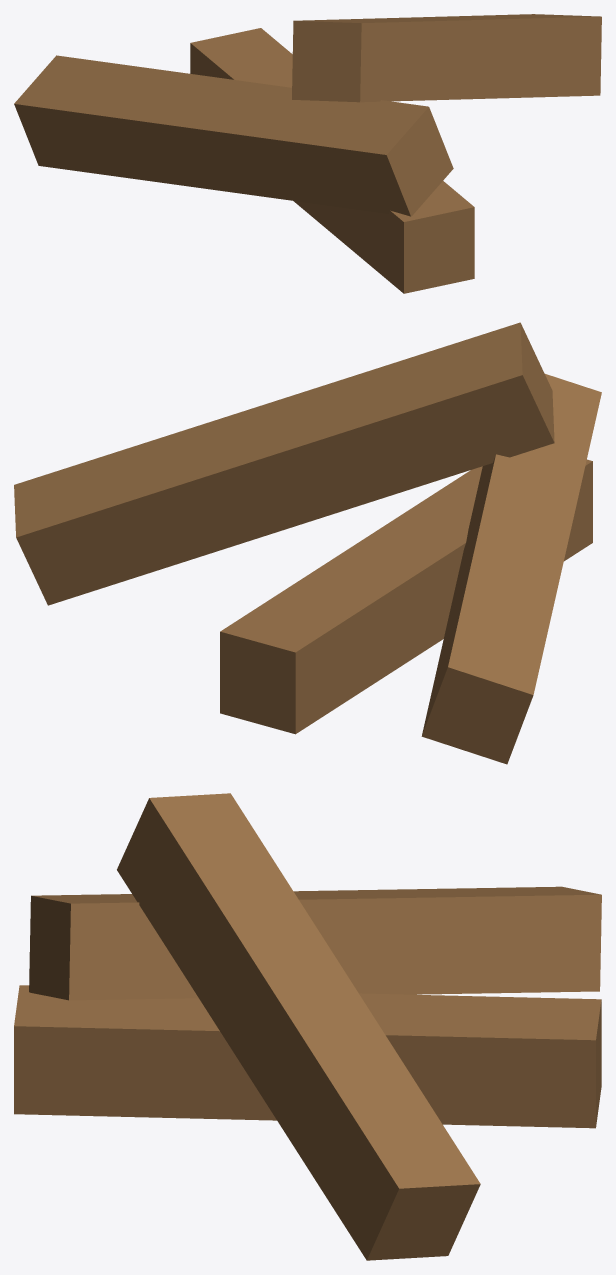
The model's file is wooden_planks.fbx.
3 views of the same model, one above another, from view 1: azimuth 30°, elevation 25°; view 2: azimuth 150°, elevation 25°; view 3: azimuth 270°, elevation 25° (orthographic). The views are drawn at different scales.
Parts seen in each view (by area): view 1: pCube31, pCube32, pCube30; view 2: pCube32, pCube30, pCube31; view 3: pCube32, pCube30, pCube31.
Boxes of the visible parts, <box> form: pCube31: <box>14,55,453,216</box>; pCube32: <box>292,14,601,102</box>; pCube30: <box>190,28,474,293</box>; pCube32: <box>14,322,554,605</box>; pCube30: <box>220,459,592,734</box>; pCube31: <box>421,374,601,764</box>; pCube32: <box>117,793,480,1260</box>; pCube30: <box>14,985,601,1128</box>; pCube31: <box>29,886,601,1000</box>.
Bounding box in the file's own units: 4.47 × 1.89 × 3.55.
